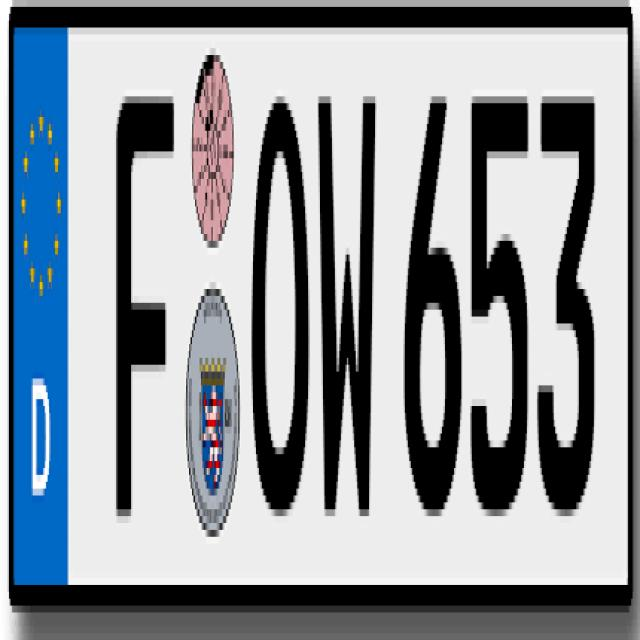Allemagne: (9, 9, 72, 607)
EU: (8, 1, 627, 599)
